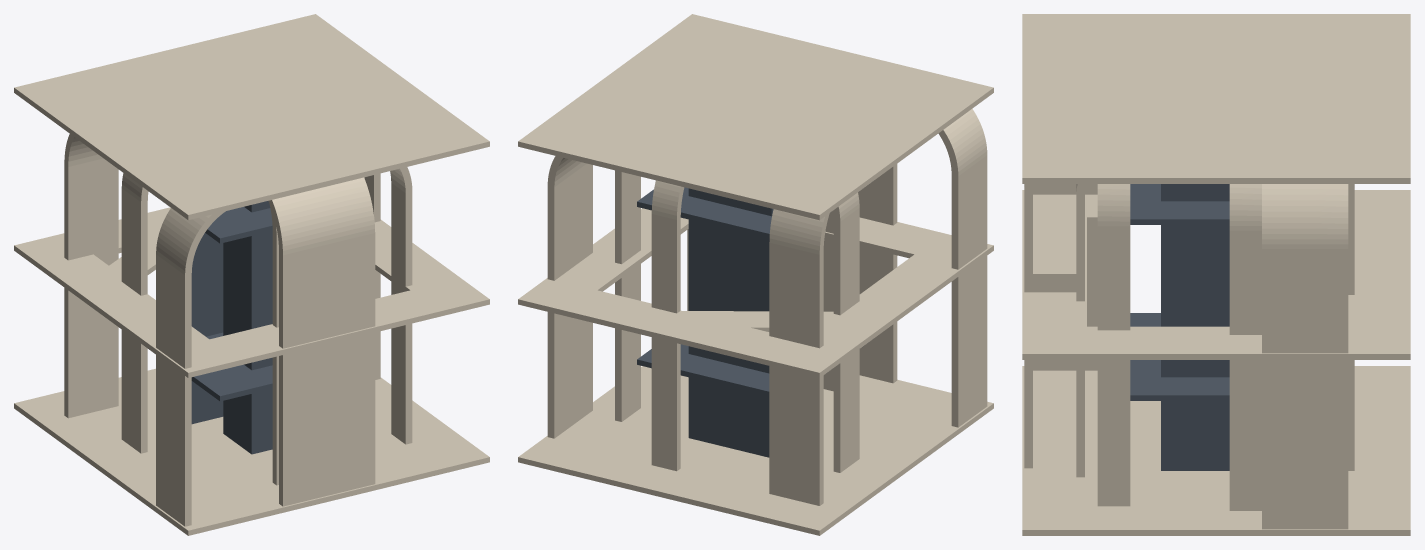
Rendered from curve-study.glb.
3 renders of one model, left to right at view 1: azimuth 30°, elevation 25°; view 2: azimuth 150°, elevation 25°; view 3: azimuth 270°, elevation 25°, orthographic. The views are drawn at different scales.
Visible parts, largest first — view 1: curve r7; view 2: curve r7; view 3: curve r7.
Boxes of the visible parts, x1,y1,x2,y2 form: curve r7: (14, 14, 489, 535); curve r7: (518, 14, 993, 535); curve r7: (1022, 14, 1410, 535).
Bounding box in the file's own units: 9.84 × 10 × 9.84.
